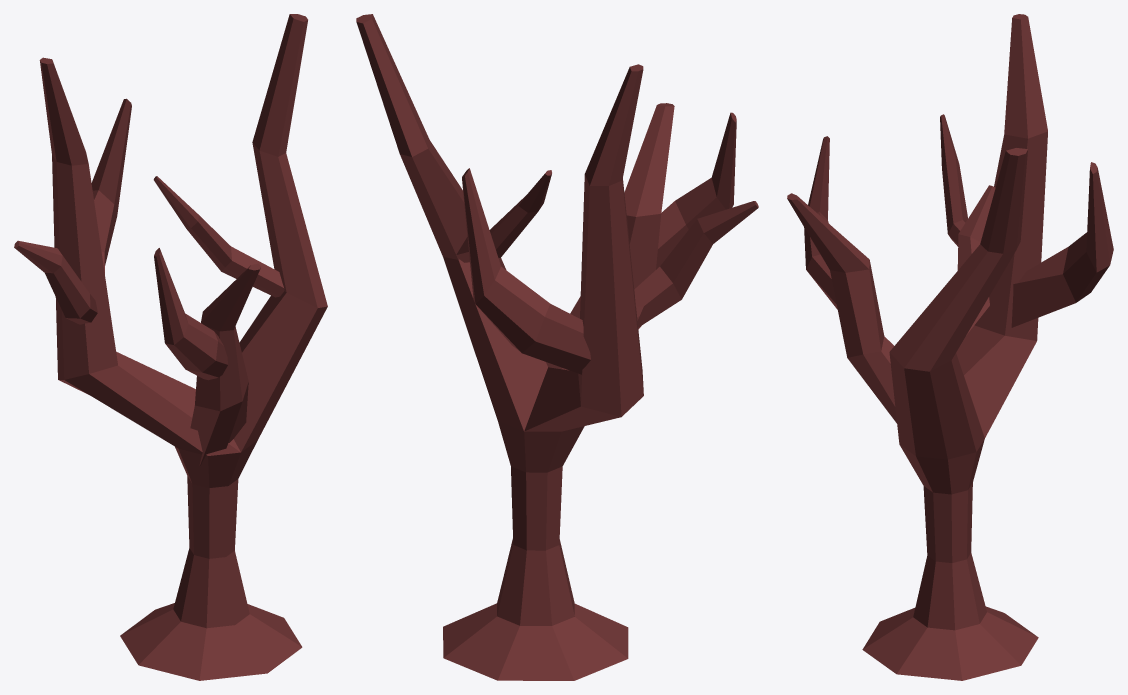
The model's file is pohon-sedang1.fbx.
3 views of the same model, side by side, from view 1: azimuth 30°, elevation 25°; view 2: azimuth 150°, elevation 25°; view 3: azimuth 270°, elevation 25° (orthographic). The views are drawn at different scales.
Parts seen in each view (by area): view 1: Cylinder.007; view 2: Cylinder.007; view 3: Cylinder.007.
Part boxes in pixels (bbox=[...]): Cylinder.007: bbox=[14, 14, 327, 680]; Cylinder.007: bbox=[356, 14, 758, 680]; Cylinder.007: bbox=[787, 14, 1113, 680].
Size of the model in its own units: 255 by 432 by 226.
